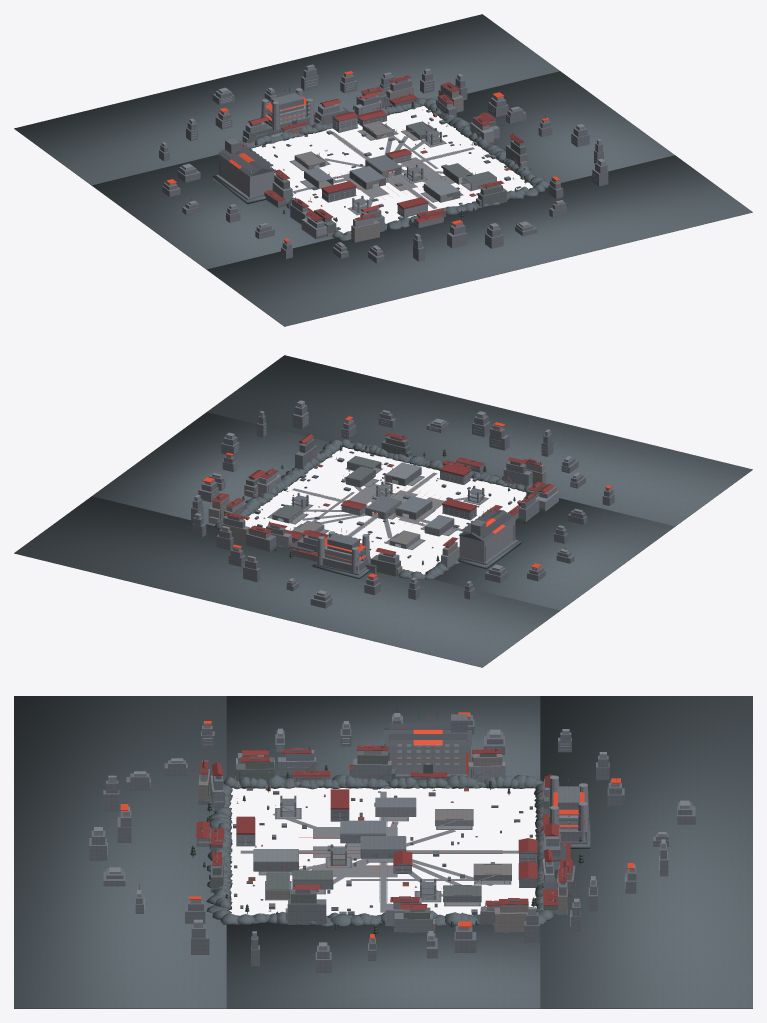
File: kunren-lod0.glb
The picture shows the model from 3 angles, top to bottom: view 1: azimuth 30°, elevation 25°; view 2: azimuth 150°, elevation 25°; view 3: azimuth 270°, elevation 25°; orthographic projection. The views are drawn at different scales.
Visible parts, largest first — view 1: HB_kunren_LOD0_terrain, HB_kunren_LOD0_wall_alt, HB_kunren_LOD0_wall, HB_kunren_LOD0_roof, HB_kunren_LOD0_wall_weathered, HB_kunren_LOD0_road, HB_kunren_LOD0_wall_cool, HB_kunren_LOD0_wall_warm, HB_kunren_LOD0_trim, HB_kunren_LOD0_LANDMARK_1_wall, HB_kunren_LOD0_LANDMARK_0_wall, HB_kunren_LOD0_LANDMARK_1_trim (+1 smaller); view 2: HB_kunren_LOD0_terrain, HB_kunren_LOD0_wall_alt, HB_kunren_LOD0_wall, HB_kunren_LOD0_wall_cool, HB_kunren_LOD0_roof, HB_kunren_LOD0_road, HB_kunren_LOD0_wall_weathered, HB_kunren_LOD0_wall_warm, HB_kunren_LOD0_trim, HB_kunren_LOD0_LANDMARK_1_wall, HB_kunren_LOD0_LANDMARK_0_wall_alt, HB_kunren_LOD0_LANDMARK_0_wall (+1 smaller); view 3: HB_kunren_LOD0_terrain, HB_kunren_LOD0_wall_alt, HB_kunren_LOD0_roof, HB_kunren_LOD0_wall_cool, HB_kunren_LOD0_wall, HB_kunren_LOD0_road, HB_kunren_LOD0_wall_weathered, HB_kunren_LOD0_wall_warm, HB_kunren_LOD0_trim, HB_kunren_LOD0_LANDMARK_1_wall, HB_kunren_LOD0_LANDMARK_1_trim, HB_kunren_LOD0_LANDMARK_0_wall (+4 smaller).
Part boxes in pixels (<box>): HB_kunren_LOD0_terrain: <box>14,14,752,326</box>; HB_kunren_LOD0_wall_alt: <box>159,68,608,263</box>; HB_kunren_LOD0_wall: <box>161,64,605,251</box>; HB_kunren_LOD0_roof: <box>240,75,523,222</box>; HB_kunren_LOD0_wall_weathered: <box>243,97,527,238</box>; HB_kunren_LOD0_road: <box>283,109,514,214</box>; HB_kunren_LOD0_wall_cool: <box>245,95,499,231</box>; HB_kunren_LOD0_wall_warm: <box>242,84,527,241</box>; HB_kunren_LOD0_trim: <box>191,75,558,230</box>; HB_kunren_LOD0_LANDMARK_1_wall: <box>219,154,274,197</box>; HB_kunren_LOD0_LANDMARK_0_wall: <box>261,88,313,133</box>; HB_kunren_LOD0_LANDMARK_1_trim: <box>218,141,275,176</box>; HB_kunren_LOD0_terrain: <box>14,355,752,667</box>; HB_kunren_LOD0_wall_alt: <box>191,404,614,608</box>; HB_kunren_LOD0_wall: <box>194,400,611,596</box>; HB_kunren_LOD0_wall_cool: <box>209,436,556,563</box>; HB_kunren_LOD0_roof: <box>211,432,554,556</box>; HB_kunren_LOD0_road: <box>261,459,510,549</box>; HB_kunren_LOD0_wall_weathered: <box>246,436,552,576</box>; HB_kunren_LOD0_wall_warm: <box>208,451,546,575</box>; HB_kunren_LOD0_trim: <box>220,433,570,567</box>; HB_kunren_LOD0_LANDMARK_1_wall: <box>459,519,515,562</box>; HB_kunren_LOD0_LANDMARK_0_wall_alt: <box>315,533,370,575</box>; HB_kunren_LOD0_LANDMARK_0_wall: <box>317,531,369,573</box>; HB_kunren_LOD0_terrain: <box>14,696,752,1008</box>; HB_kunren_LOD0_wall_alt: <box>89,714,695,972</box>; HB_kunren_LOD0_roof: <box>196,745,572,909</box>; HB_kunren_LOD0_wall_cool: <box>196,750,567,932</box>; HB_kunren_LOD0_wall: <box>94,713,689,950</box>; HB_kunren_LOD0_road: <box>236,790,518,912</box>; HB_kunren_LOD0_wall_weathered: <box>210,751,573,923</box>; HB_kunren_LOD0_wall_warm: <box>198,754,572,932</box>; HB_kunren_LOD0_trim: <box>138,707,616,936</box>; HB_kunren_LOD0_LANDMARK_1_wall: <box>385,745,470,774</box>; HB_kunren_LOD0_LANDMARK_1_trim: <box>384,712,471,773</box>; HB_kunren_LOD0_LANDMARK_0_wall: <box>548,775,589,841</box>.
Bounding box in the file's own units: 730 × 66.8 × 730.
Materials: 14 (12 with a texture image).
